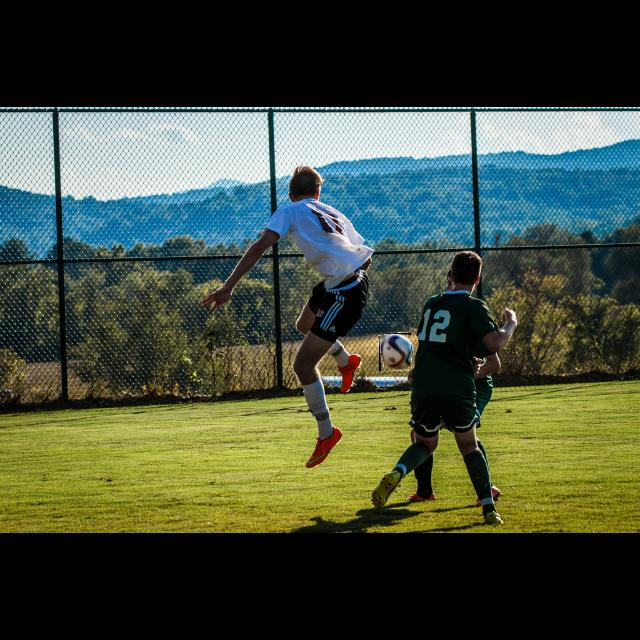Football: (379, 333, 411, 371)
